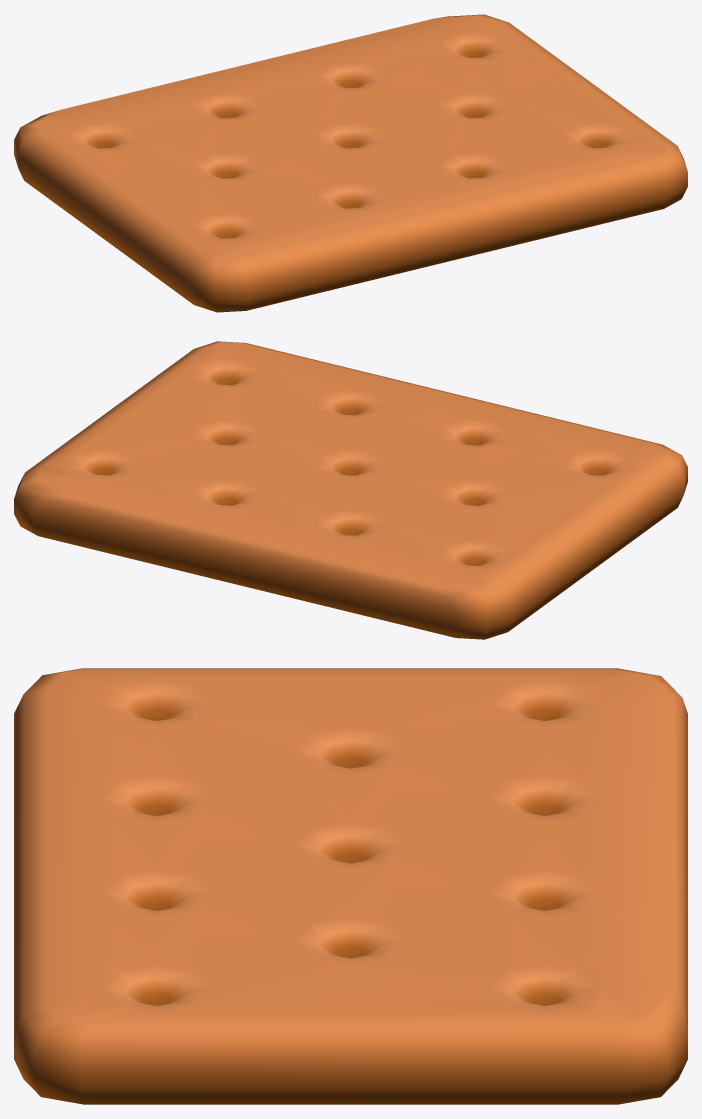
The model's file is Cookie_01.glb.
3 views of the same model, one above another, from view 1: azimuth 30°, elevation 25°; view 2: azimuth 150°, elevation 25°; view 3: azimuth 270°, elevation 25° (orthographic). The views are drawn at different scales.
Visible parts, largest first — view 1: Cookie_01; view 2: Cookie_01; view 3: Cookie_01.
Part boxes in pixels (x1,y1,x2,y2): Cookie_01: (14, 14, 687, 312); Cookie_01: (14, 341, 687, 639); Cookie_01: (14, 668, 687, 1104).
Bounding box in the file's own units: 4 × 0.4 × 3.
1 material, 1 textured.
